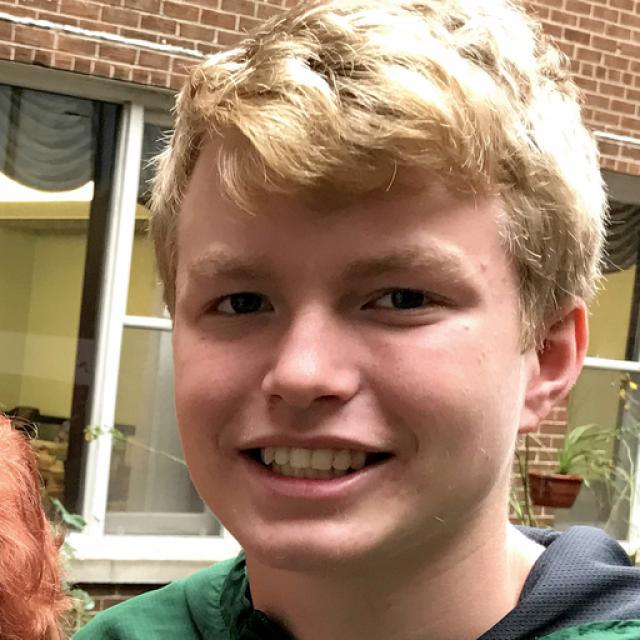Acne: (472, 251, 495, 278)
